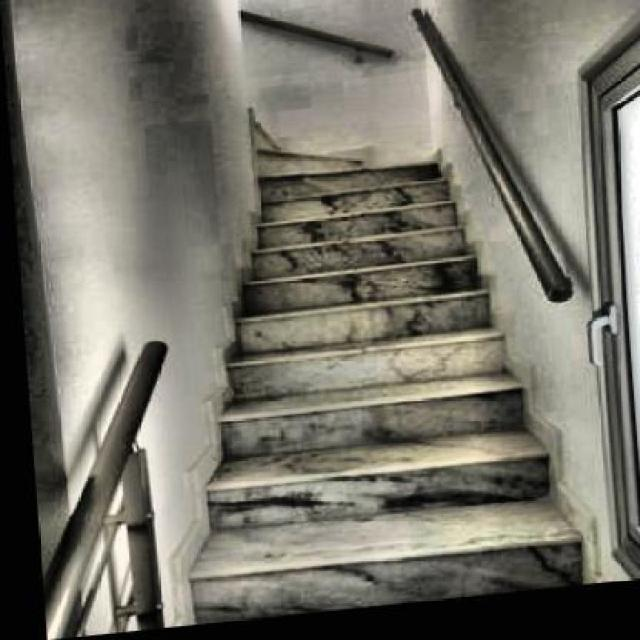stair: (146, 135, 589, 628)
